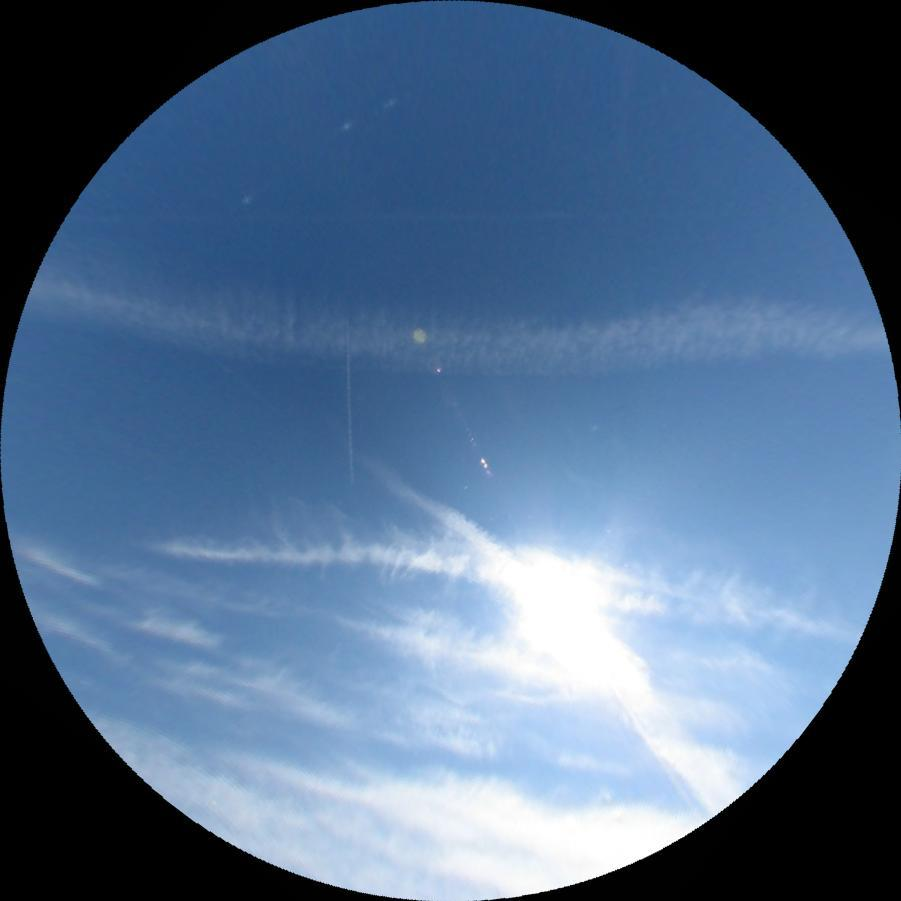contrail old: (63, 209, 577, 225)
contrail veryold: (362, 418, 754, 821), (135, 486, 866, 648), (21, 260, 892, 391)
contrail young: (343, 314, 354, 485)
parasite: (233, 89, 398, 207), (611, 690, 706, 825)
sun: (509, 558, 624, 678)
